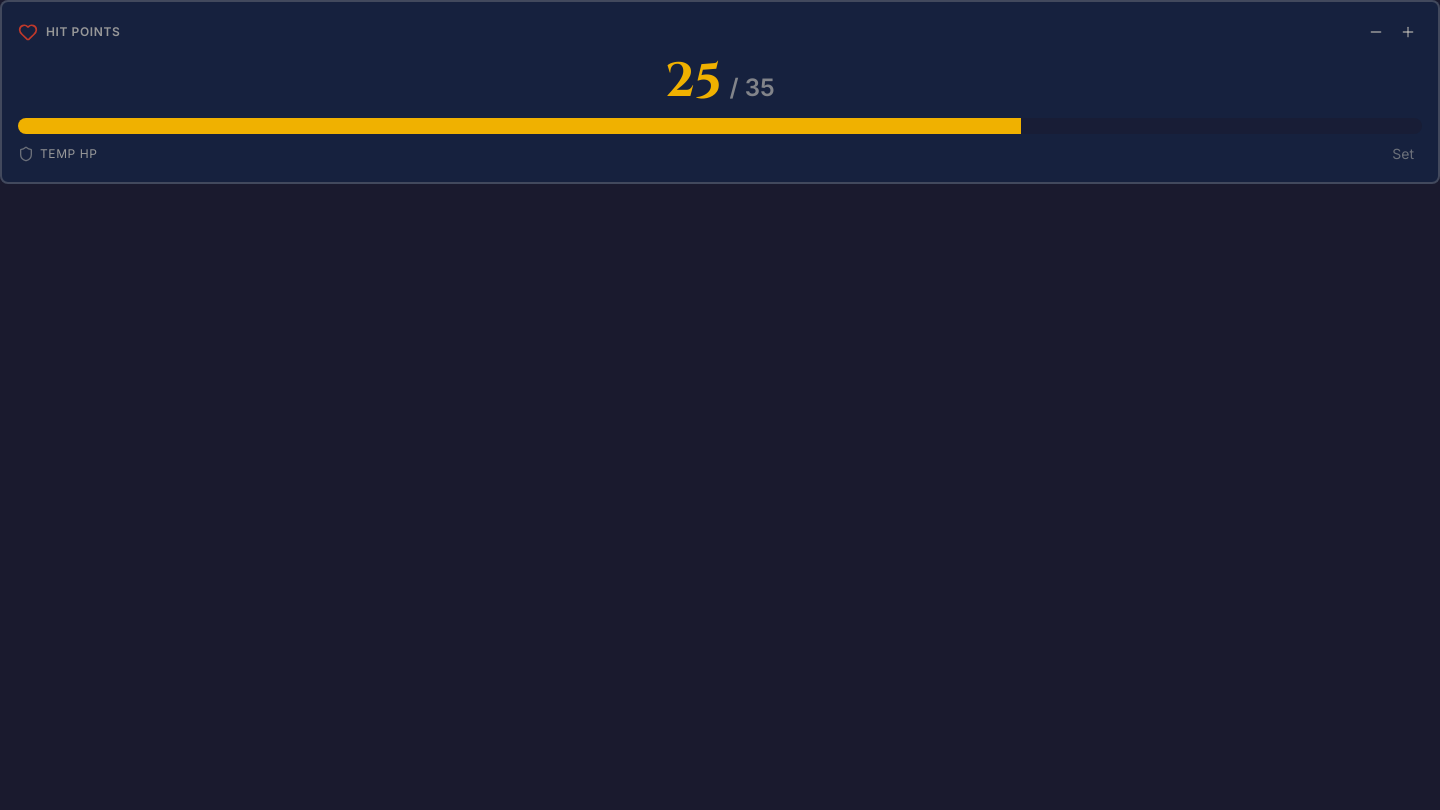
Scenario: HPSessionTracker › should open heal modal when plus button is clicked
Click the button with test id "open-heal-modal" at (1408, 32), box [1394,18,1422,46]
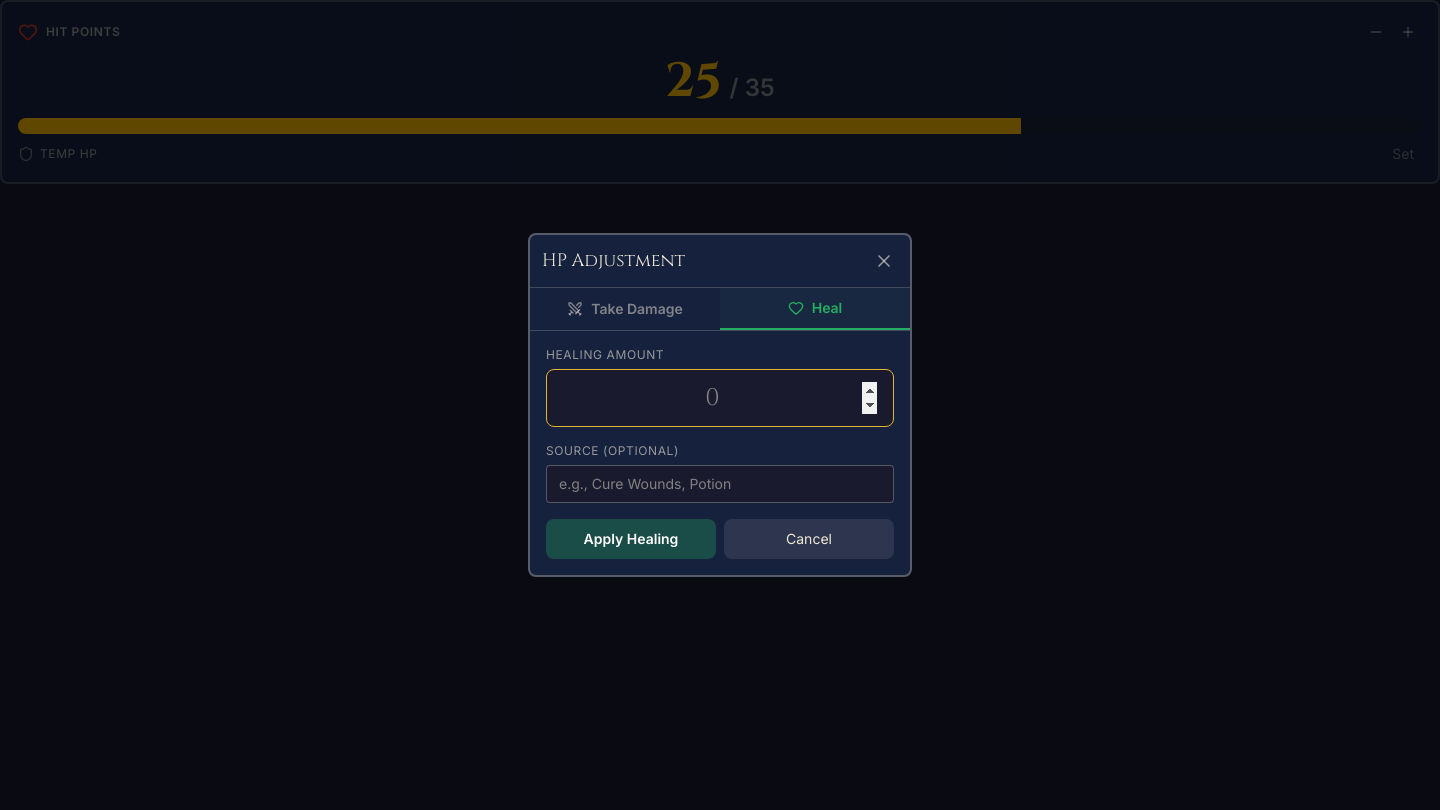
expect the dialog with test id "damage-heal-modal" is shown: met
expect the text "Healing Amount" is shown: met, box [546,347,664,362]
